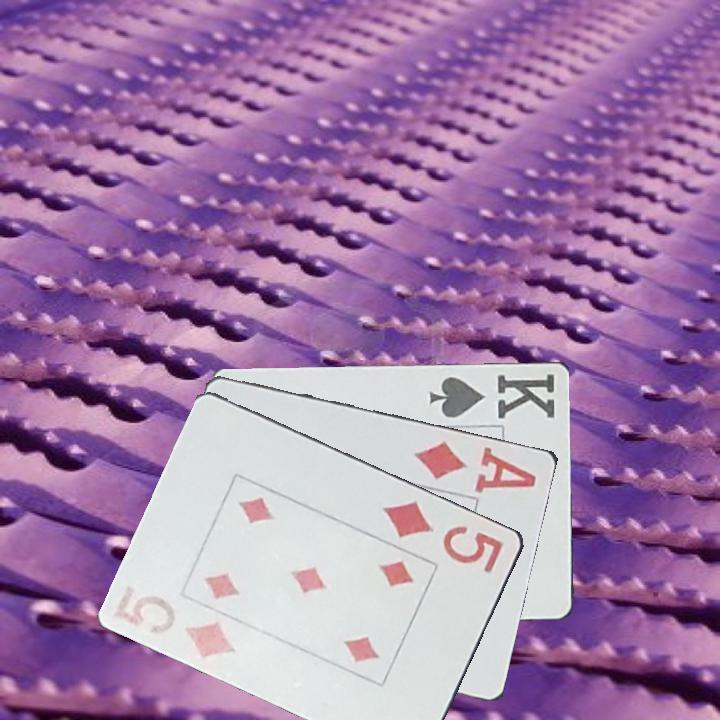5d: (380, 497, 507, 576), (127, 591, 240, 661)
Ad: (410, 437, 540, 496)
Ks: (425, 369, 559, 422)
